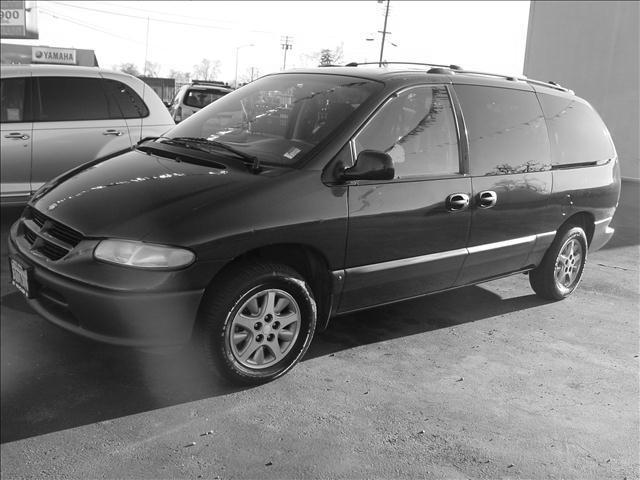car: (11, 61, 621, 387)
